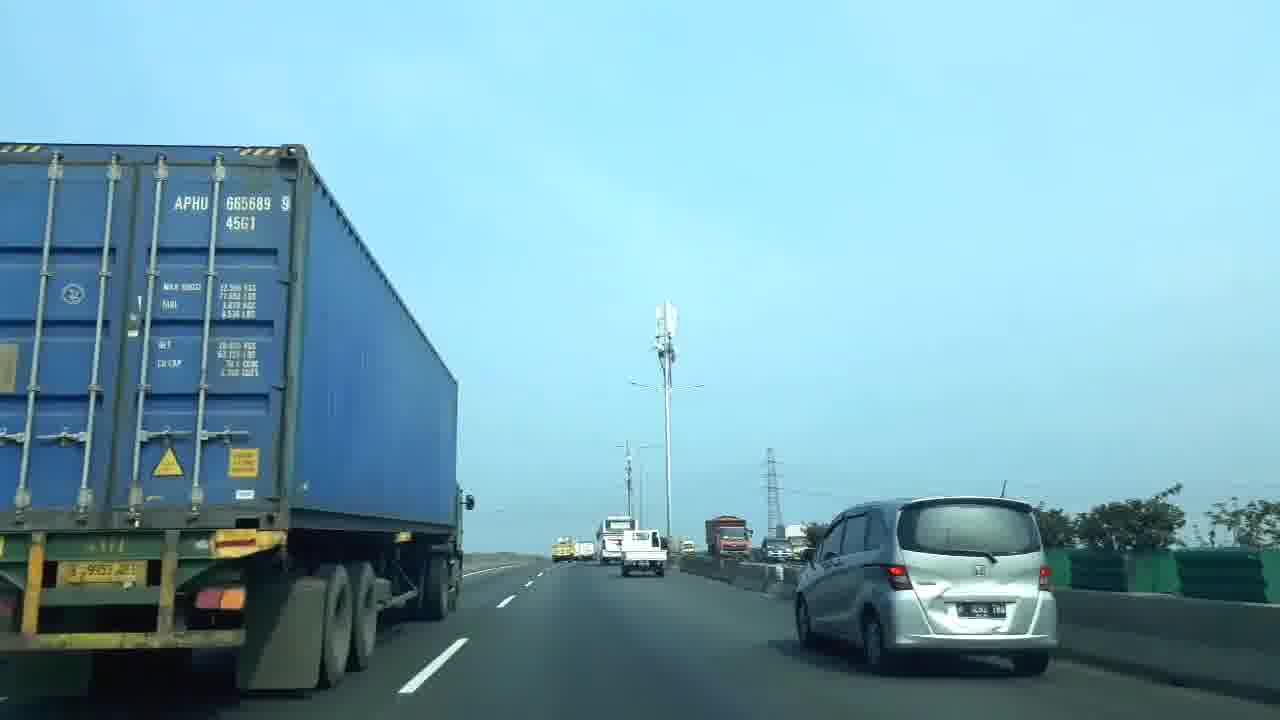plate_positive: (58, 561, 146, 587), (956, 602, 1007, 618)
